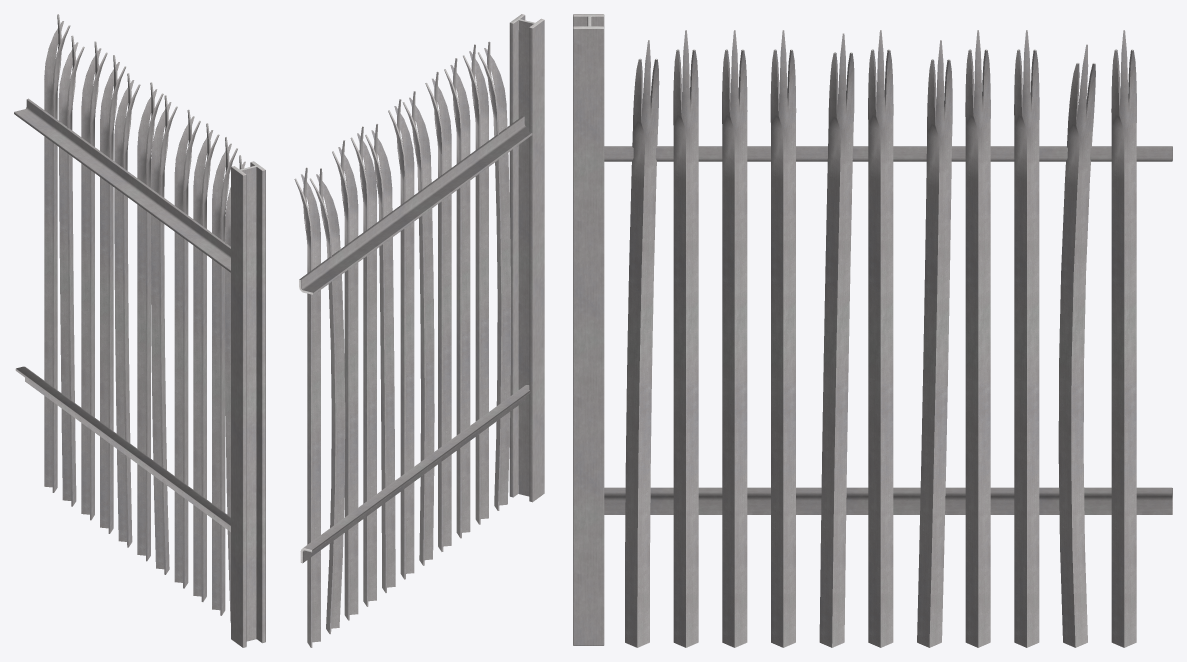
Rendered from SpikedFence_SM.FBX.
The picture shows the model from 3 angles, left to right: view 1: azimuth 30°, elevation 25°; view 2: azimuth 150°, elevation 25°; view 3: azimuth 270°, elevation 25°; orthographic projection. The views are drawn at different scales.
Parts seen in each view (by area): view 1: SpikedFence_SM; view 2: SpikedFence_SM; view 3: SpikedFence_SM.
Boxes of the visible parts, x1,y1,x2,y2 form: SpikedFence_SM: (14, 14, 265, 647); SpikedFence_SM: (294, 14, 544, 647); SpikedFence_SM: (573, 14, 1172, 647).
Bounding box in the file's own units: 27.52 × 350 × 308.
Materials: 1 (1 with a texture image).
